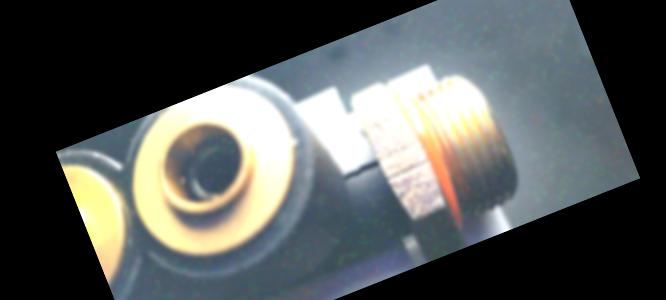craze: (341, 155, 382, 186)
